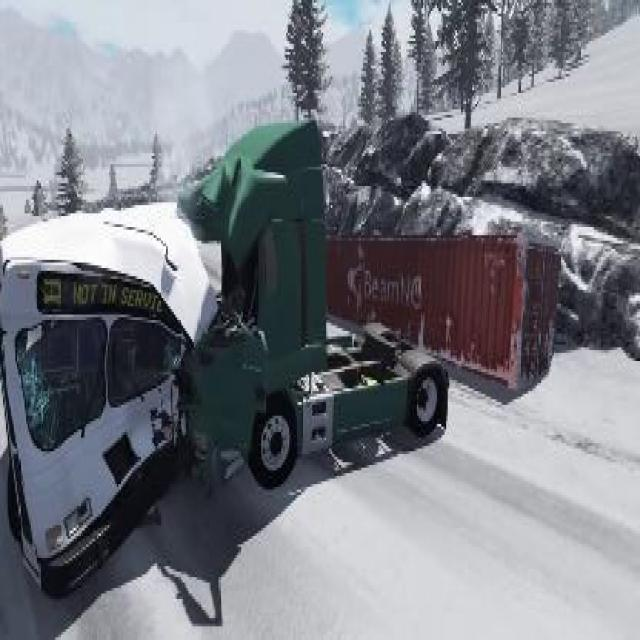accident: (0, 101, 455, 609)
